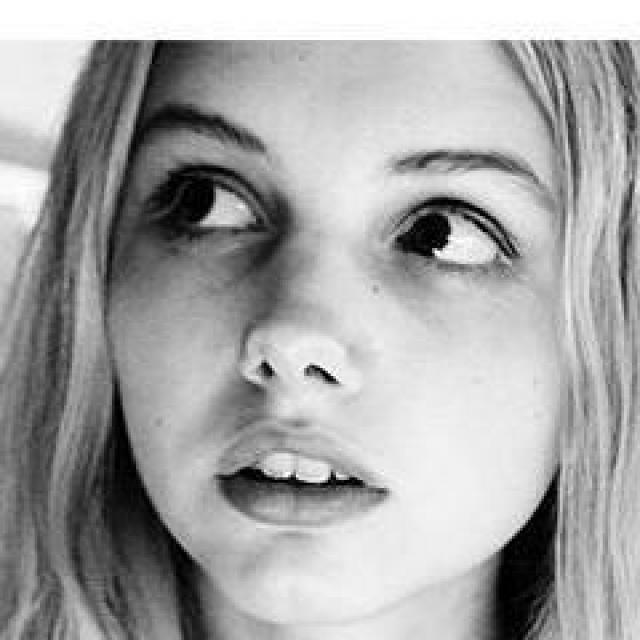Surprised: (152, 2, 579, 610)
